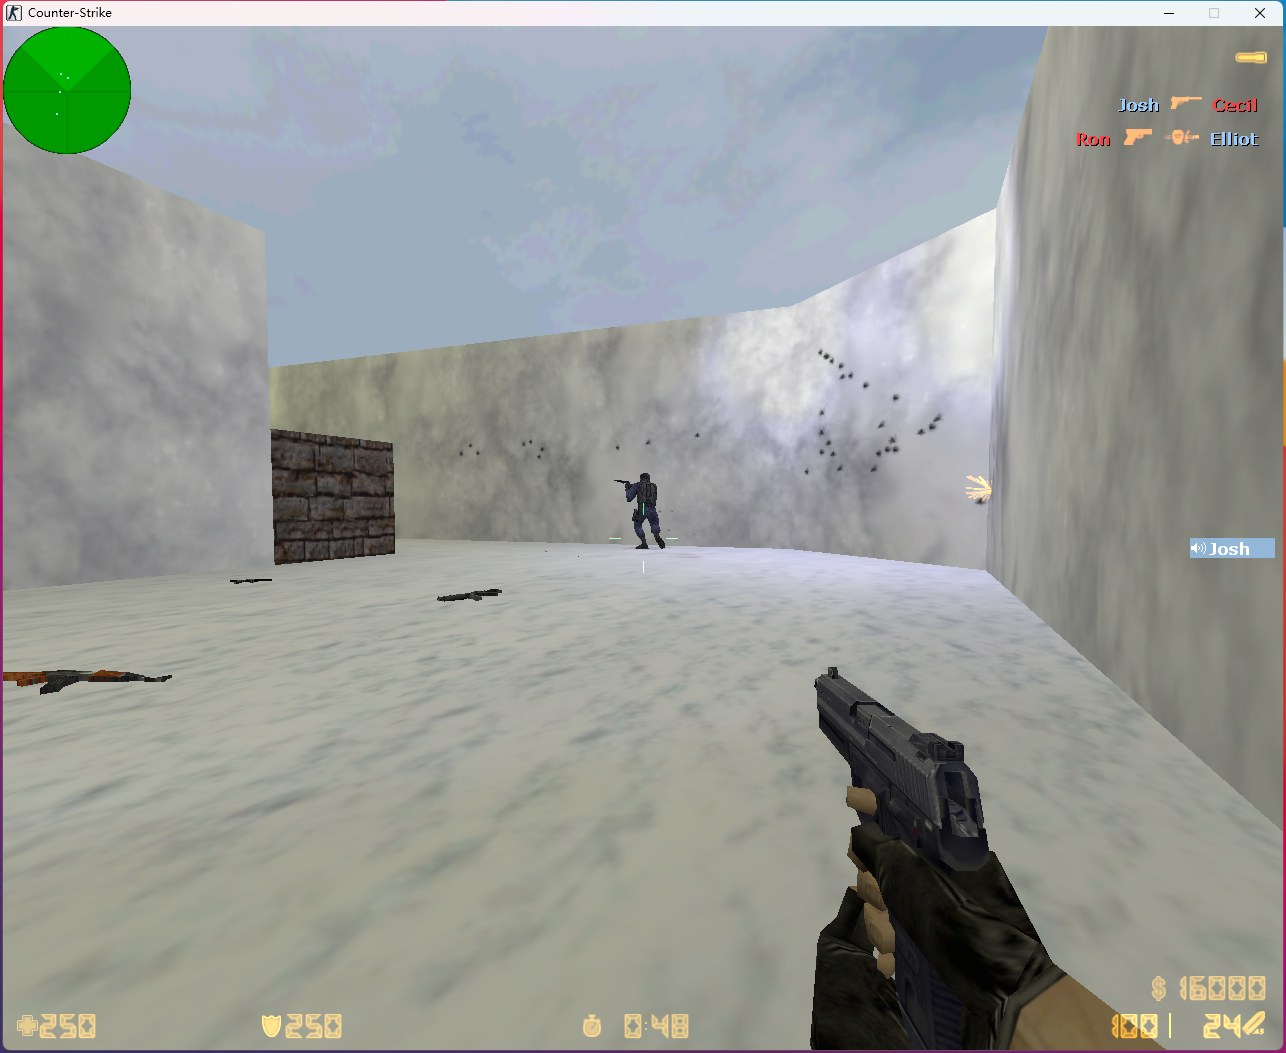C: (618, 474, 670, 552)
weapon: (3, 665, 171, 694), (432, 587, 505, 602), (223, 576, 275, 586)
